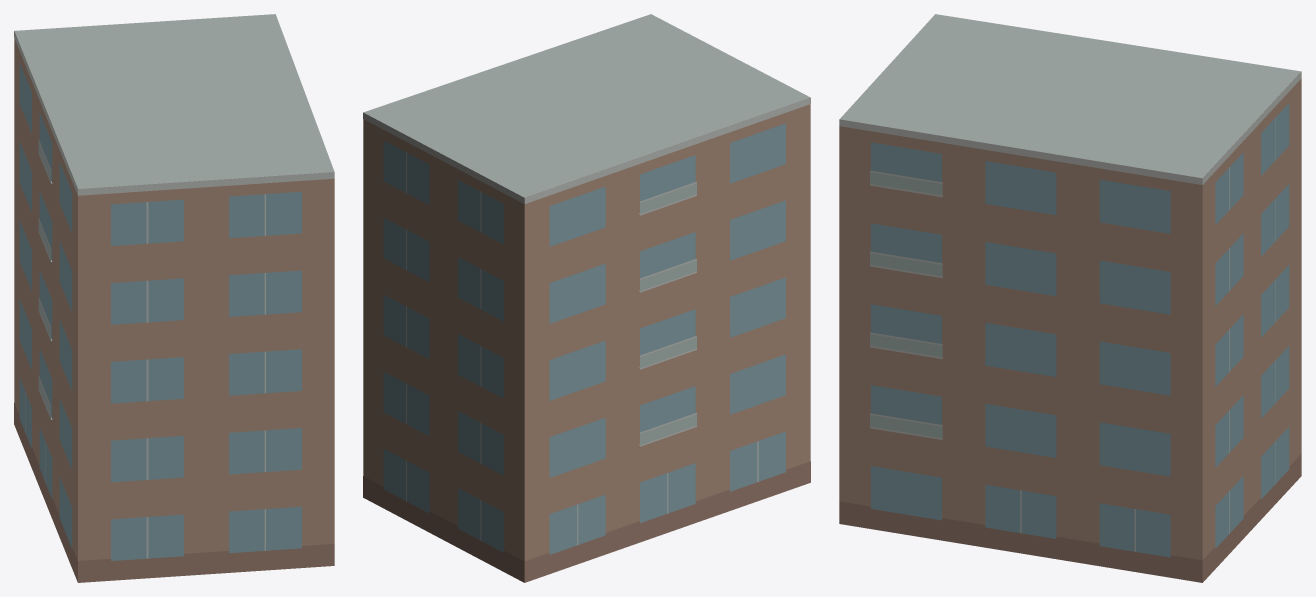
File: survey-upis-33037689.glb
The picture shows the model from 3 angles, left to right: view 1: azimuth 30°, elevation 25°; view 2: azimuth 150°, elevation 25°; view 3: azimuth 270°, elevation 25°; orthographic projection. The views are drawn at different scales.
Visible parts, largest first — view 1: survey-upis-33037689.tmp; view 2: survey-upis-33037689.tmp; view 3: survey-upis-33037689.tmp.
Boxes of the visible parts, x1,y1,x2,y2 form: survey-upis-33037689.tmp: [14, 14, 334, 582]; survey-upis-33037689.tmp: [363, 14, 810, 582]; survey-upis-33037689.tmp: [839, 14, 1301, 582].
Size of the model in its own units: 12.64 by 14.5 by 15.02.
